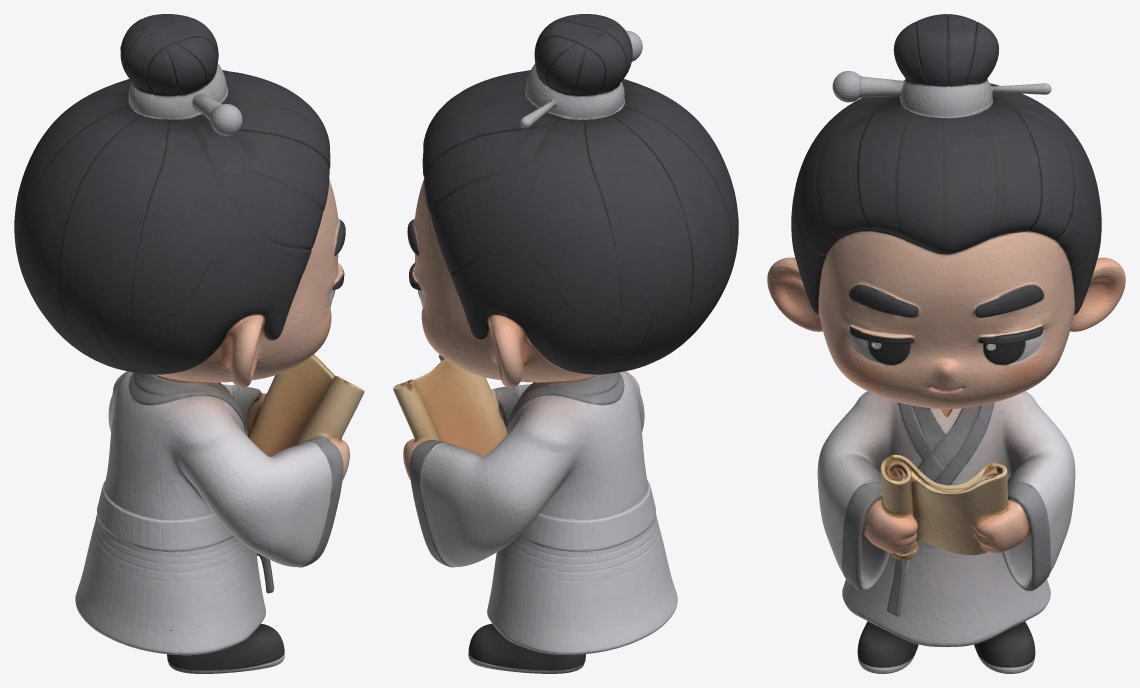
3 views of the same model, side by side, from view 1: azimuth 30°, elevation 25°; view 2: azimuth 150°, elevation 25°; view 3: azimuth 270°, elevation 25° (orthographic). The views are drawn at different scales.
Parts seen in each view (by area): view 1: tripo_node_6c1d1ad3-0beb-46b7-a63d-c94a1e28d2ca; view 2: tripo_node_6c1d1ad3-0beb-46b7-a63d-c94a1e28d2ca; view 3: tripo_node_6c1d1ad3-0beb-46b7-a63d-c94a1e28d2ca.
Part boxes in pixels (x1=…): tripo_node_6c1d1ad3-0beb-46b7-a63d-c94a1e28d2ca: x1=14, y1=14, x2=364, y2=673; tripo_node_6c1d1ad3-0beb-46b7-a63d-c94a1e28d2ca: x1=393, y1=14, x2=738, y2=673; tripo_node_6c1d1ad3-0beb-46b7-a63d-c94a1e28d2ca: x1=767, y1=14, x2=1125, y2=673.
Bounding box in the file's own units: 0.508 × 1 × 0.5292.
1 material, 1 textured.
